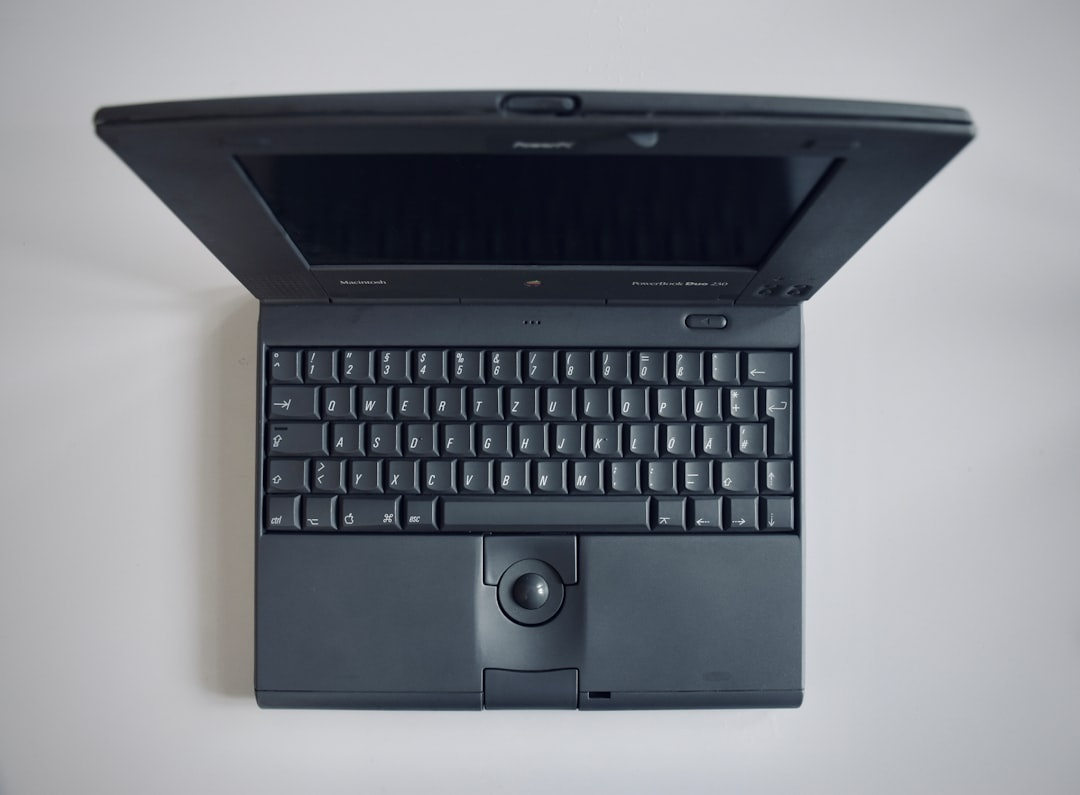laptop: (67, 56, 1006, 733)
